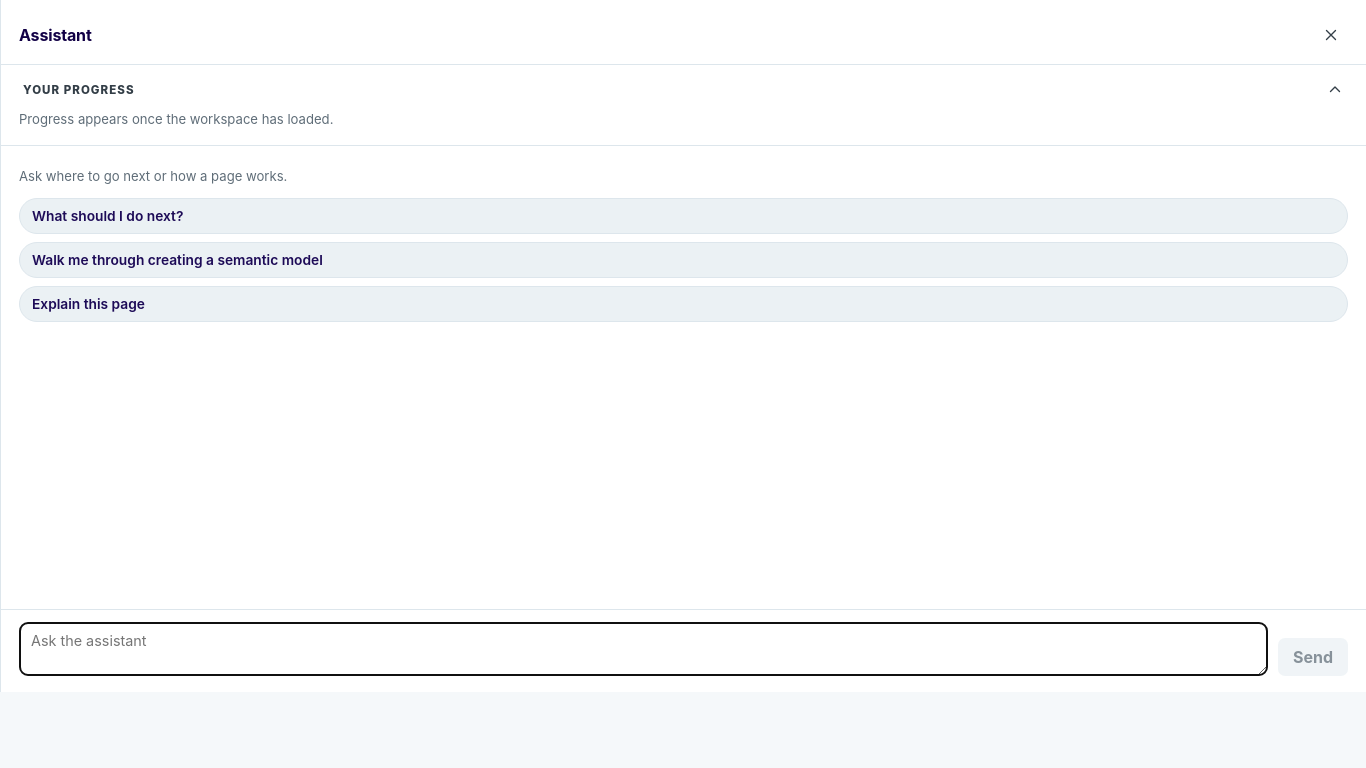
Test: AssistantDrawer › points to the LLM provider settings when the assistant is unavailable
Type "Hello" into the text box labelled "Ask the assistant" at point(643, 649), box [19,622,1268,676]
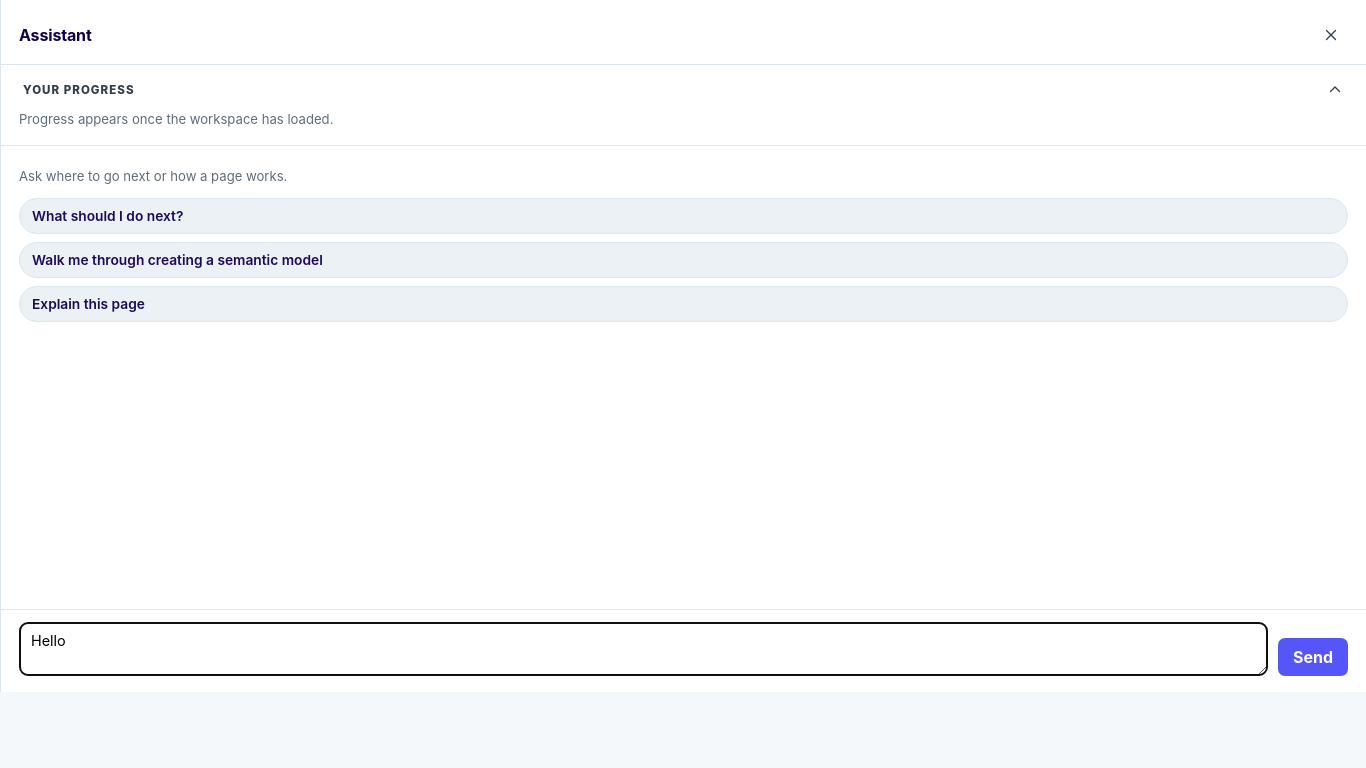
Press Enter in the text box named "Ask the assistant", box [19,622,1268,676]
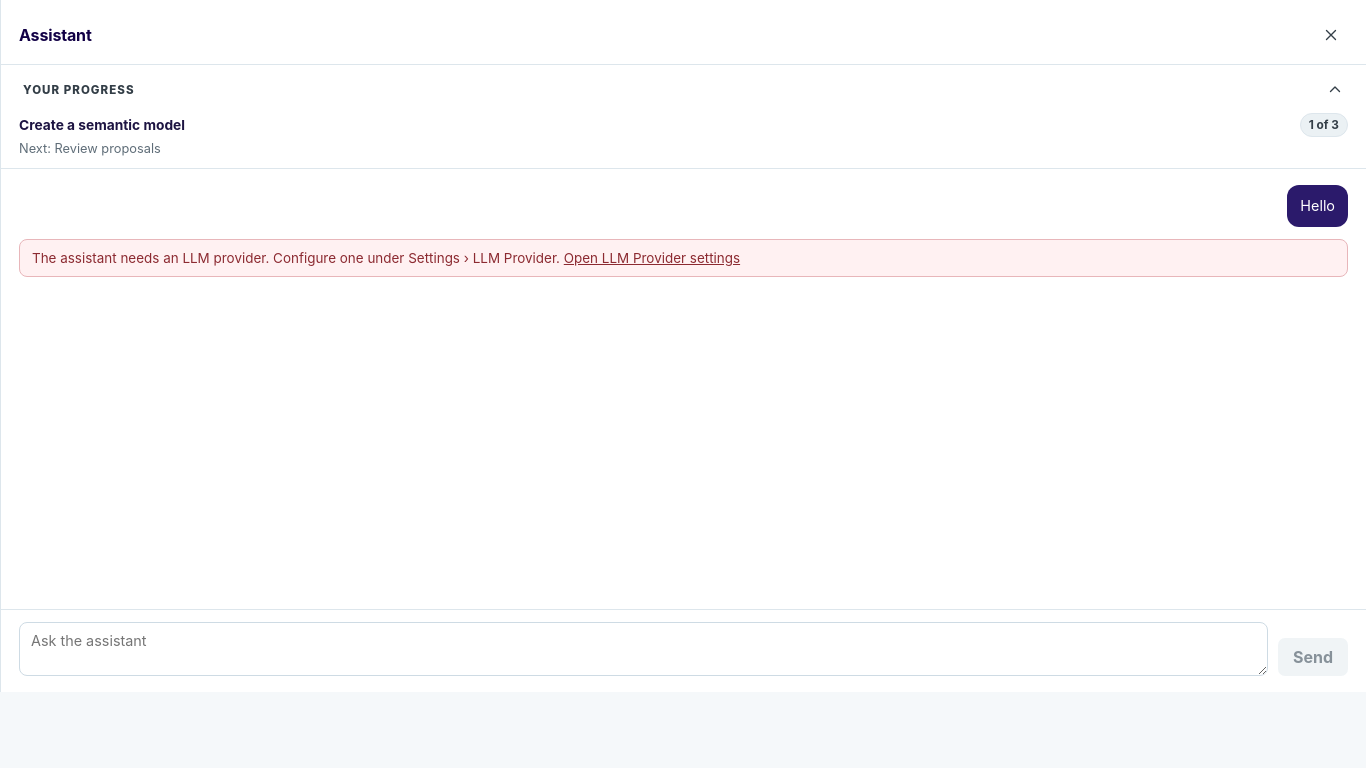
Check: the message shows "The assistant needs an LLM provider. Configure one under Settings › LLM Provider.", box [32,250,560,266]
